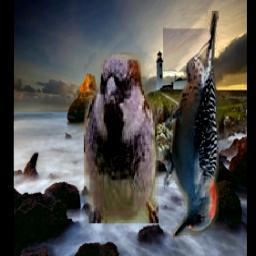Sparrow: (84, 53, 159, 224)
Woodpecker: (162, 11, 218, 242)
